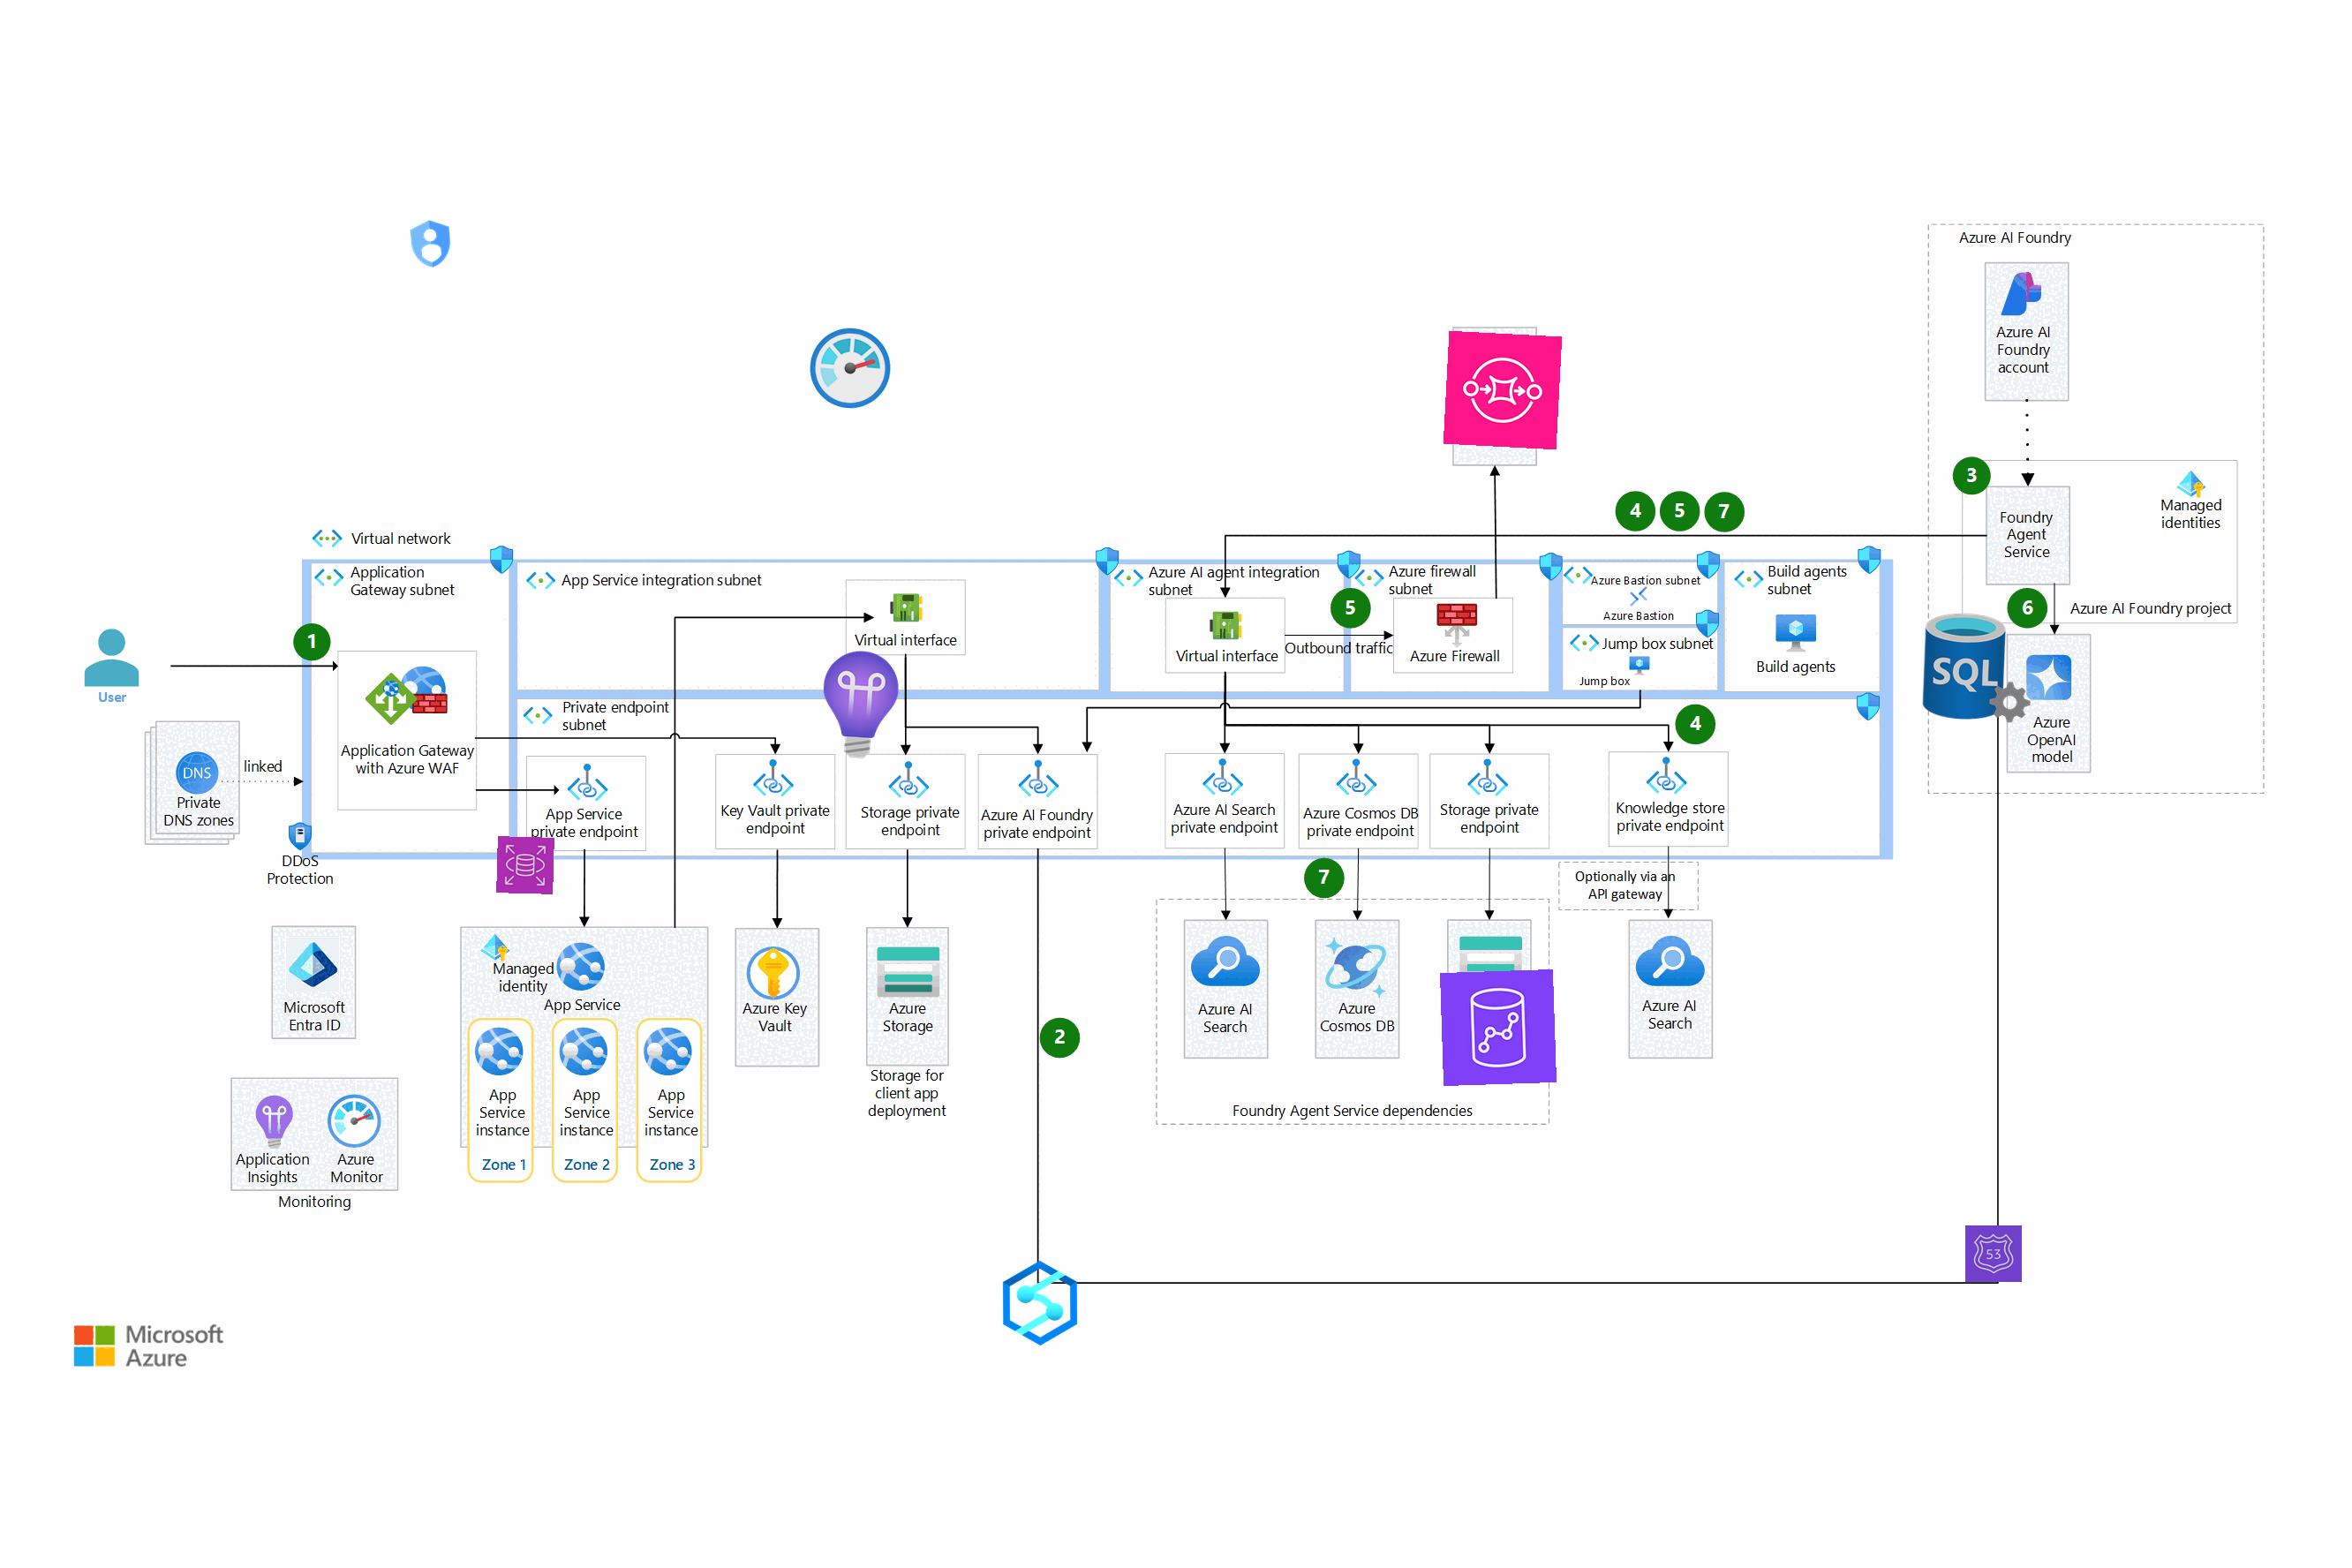aws_amazon_rds: (497, 836, 555, 894)
aws_amazon_redshift: (1438, 968, 1557, 1087)
aws_amazon_route_53: (1965, 1225, 2023, 1283)
aws_amazon_simple_queue_service: (1442, 331, 1563, 450)
azure_application_insights: (800, 644, 920, 765)
azure_monitor: (805, 322, 896, 415)
azure_sql_server: (1918, 609, 2037, 726)
azure_synapse_analytics: (998, 1260, 1083, 1346)
gcp_identity_and_access_management: (401, 213, 462, 275)
